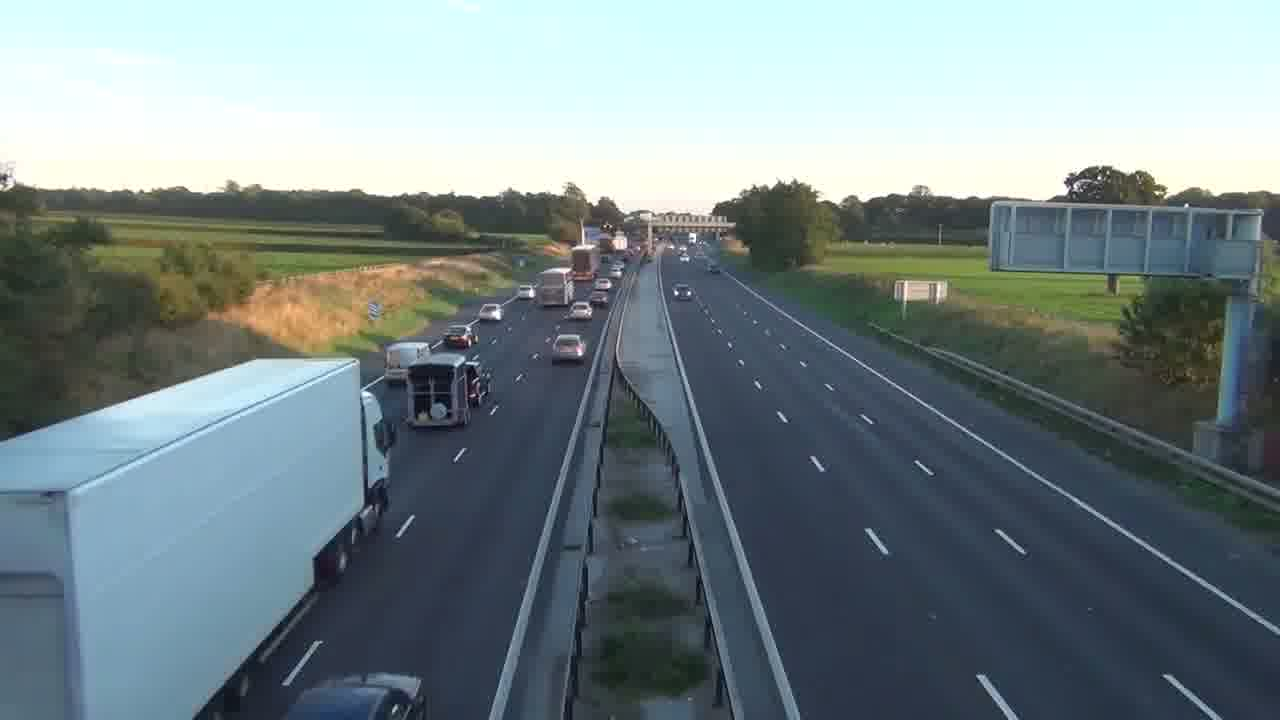car: (285, 673, 429, 718), (551, 332, 587, 363), (673, 283, 693, 298)
truck: (532, 267, 575, 309)
